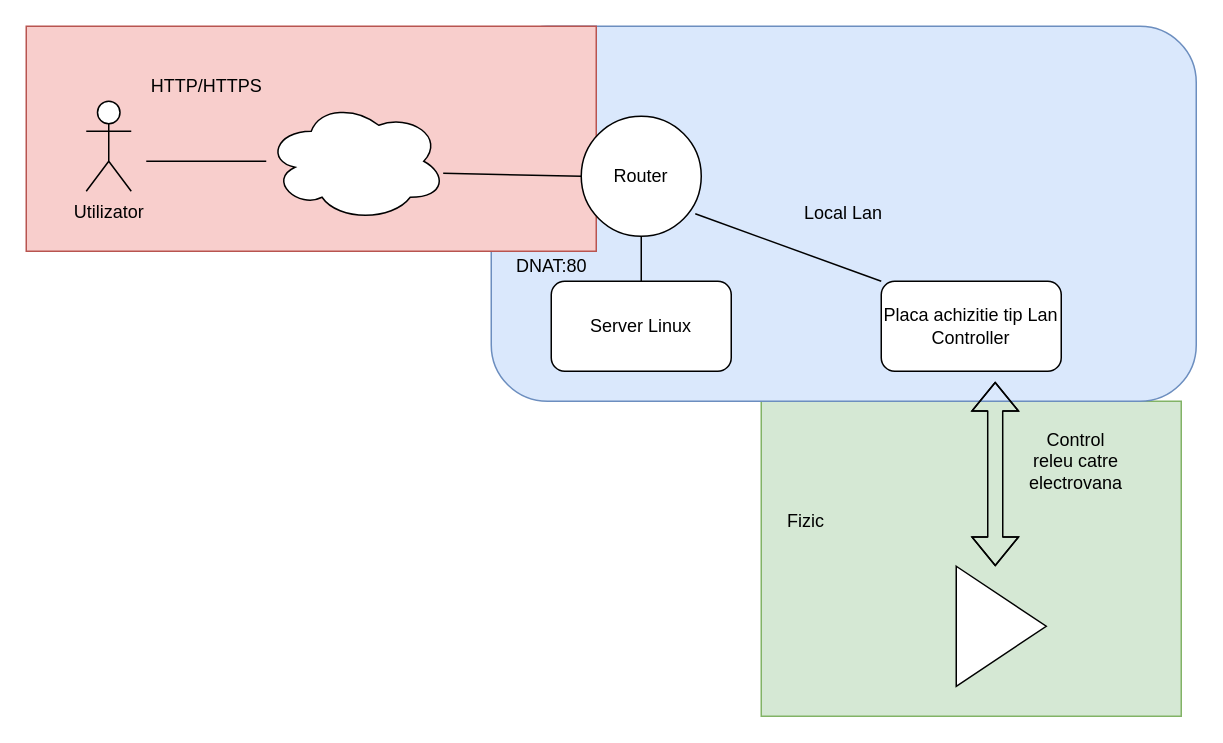
The diagram is 1223 pixels wide and 743 high, and some of its shapes have lost their labels. Each missing label, with the centre of its shape:
"Electrovana" belongs at (x=1000, y=625).
"Internet" belongs at (x=355, y=160).
